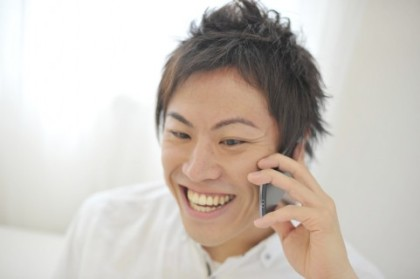phone: (252, 146, 334, 236)
talk: (161, 107, 353, 279)
